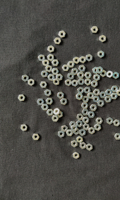nut: (91, 26, 99, 33), (58, 31, 66, 38), (100, 35, 107, 43), (62, 65, 70, 72), (38, 55, 46, 62), (41, 71, 49, 78), (53, 78, 60, 86), (77, 72, 85, 79), (76, 93, 84, 100), (82, 109, 90, 116), (37, 99, 45, 106), (54, 108, 61, 116), (32, 134, 40, 141), (66, 130, 74, 137), (80, 142, 87, 150), (73, 152, 80, 160), (98, 51, 105, 58), (48, 46, 55, 53), (80, 56, 87, 63), (68, 61, 75, 68), (47, 54, 54, 61), (43, 60, 50, 67), (46, 65, 53, 72), (52, 68, 59, 75), (48, 74, 55, 81), (56, 74, 63, 81), (113, 72, 120, 79), (107, 71, 114, 78), (97, 67, 104, 74), (93, 67, 100, 74), (79, 65, 86, 72), (72, 68, 79, 75), (68, 73, 75, 80), (85, 72, 92, 79), (94, 74, 101, 81), (91, 81, 98, 88), (85, 79, 92, 86), (72, 80, 79, 87), (65, 79, 72, 86), (28, 79, 35, 86), (22, 75, 29, 82), (112, 86, 119, 93), (106, 89, 113, 96), (111, 93, 118, 100), (105, 96, 112, 103), (94, 89, 101, 96), (93, 96, 100, 103), (98, 100, 105, 107), (45, 90, 52, 97), (46, 98, 53, 105), (42, 104, 49, 111), (47, 109, 54, 116), (77, 114, 84, 121), (21, 125, 28, 132), (107, 118, 114, 125), (95, 124, 102, 131), (89, 127, 96, 134), (76, 121, 83, 128), (83, 124, 90, 131), (71, 125, 78, 132), (73, 128, 80, 135), (58, 131, 65, 138), (54, 38, 62, 44), (87, 54, 93, 62), (18, 95, 26, 101), (74, 57, 80, 64), (52, 60, 59, 66), (101, 70, 107, 77), (78, 79, 85, 85), (40, 82, 47, 88), (100, 92, 107, 98), (85, 87, 91, 94), (78, 87, 84, 94), (88, 93, 95, 99), (83, 97, 90, 103), (82, 103, 89, 109), (90, 105, 97, 111), (88, 112, 95, 118), (58, 92, 64, 99), (61, 99, 68, 105), (52, 116, 59, 122), (114, 120, 120, 127), (96, 118, 103, 124), (83, 117, 89, 124), (80, 129, 86, 136), (70, 122, 77, 128), (62, 125, 68, 132), (77, 137, 84, 143), (72, 141, 78, 148), (87, 144, 93, 151), (57, 112, 63, 118), (115, 133, 120, 140), (117, 90, 120, 96)
